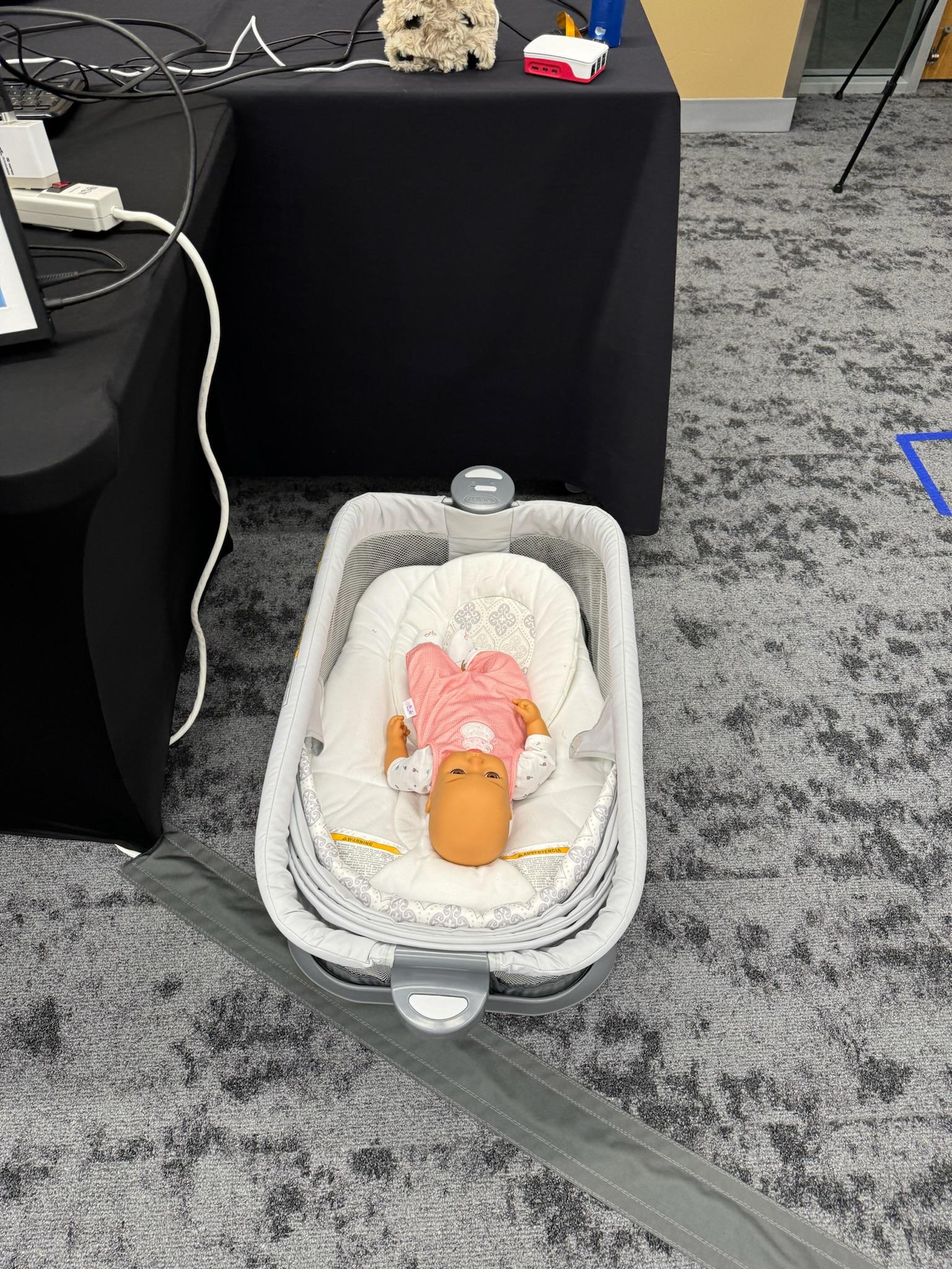baby: (392, 634, 553, 861)
